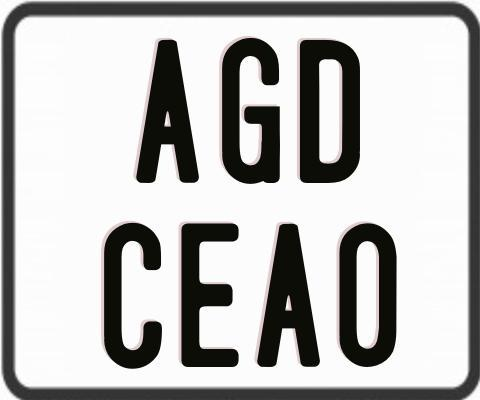0: (337, 221, 399, 371)
A: (256, 221, 324, 364), (134, 39, 197, 188)
C: (104, 223, 162, 375)
D: (300, 39, 366, 187)
E: (179, 222, 240, 370)
G: (221, 36, 280, 182)
